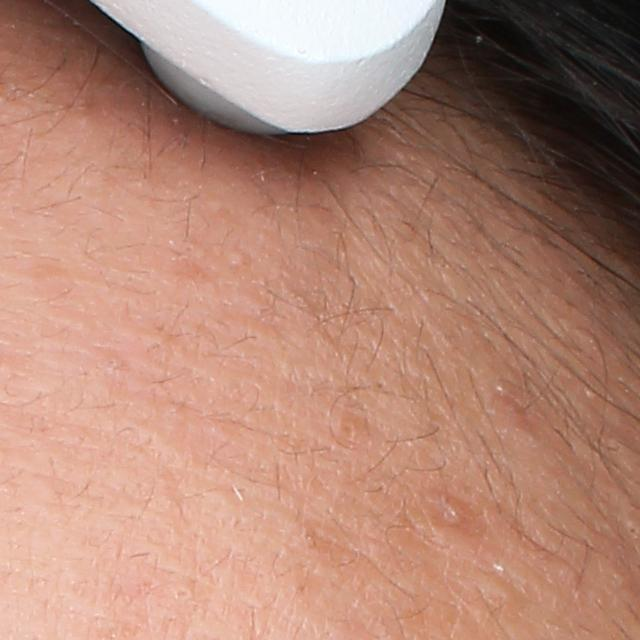comedo: (433, 495, 472, 532), (223, 248, 252, 268), (171, 584, 195, 604)
